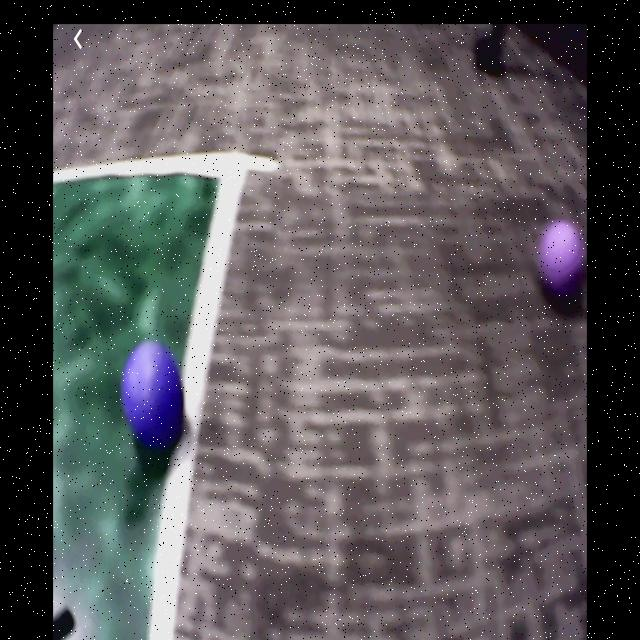ball: (124, 345, 185, 442), (538, 222, 582, 289)
